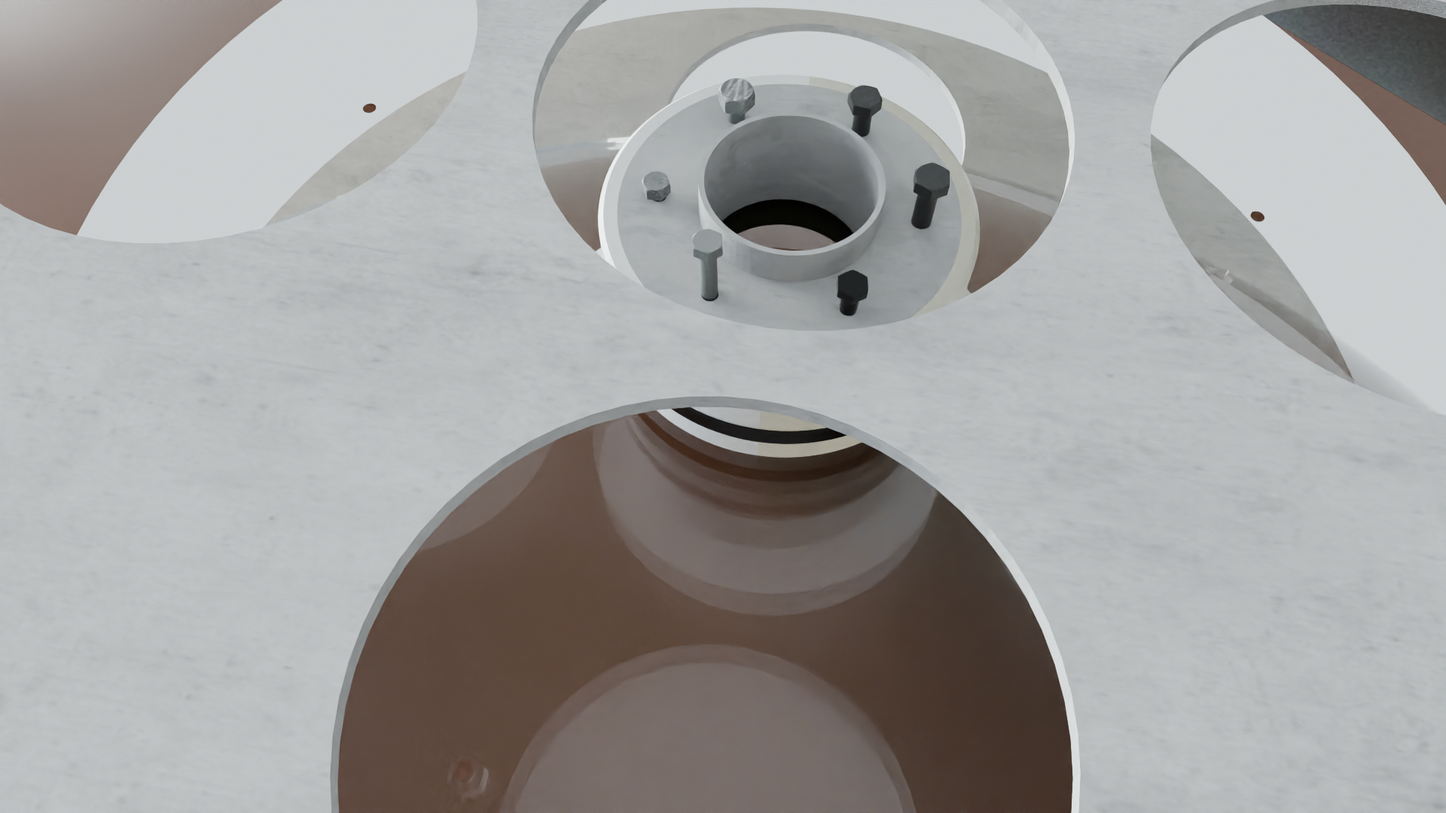bolt: (915, 163, 950, 192), (718, 78, 755, 105), (848, 85, 883, 109), (838, 269, 868, 297), (693, 228, 723, 255), (642, 172, 670, 193)
